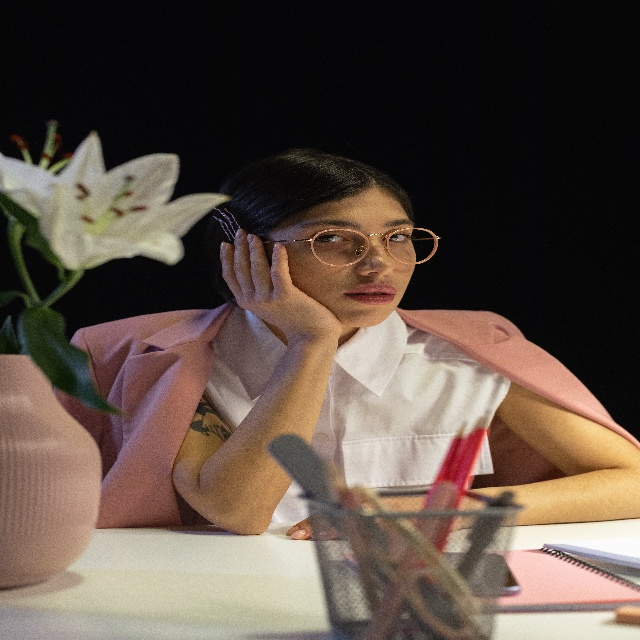Gafas: (264, 227, 441, 267)
Sin_guantes: (219, 228, 343, 341), (286, 510, 337, 541)
